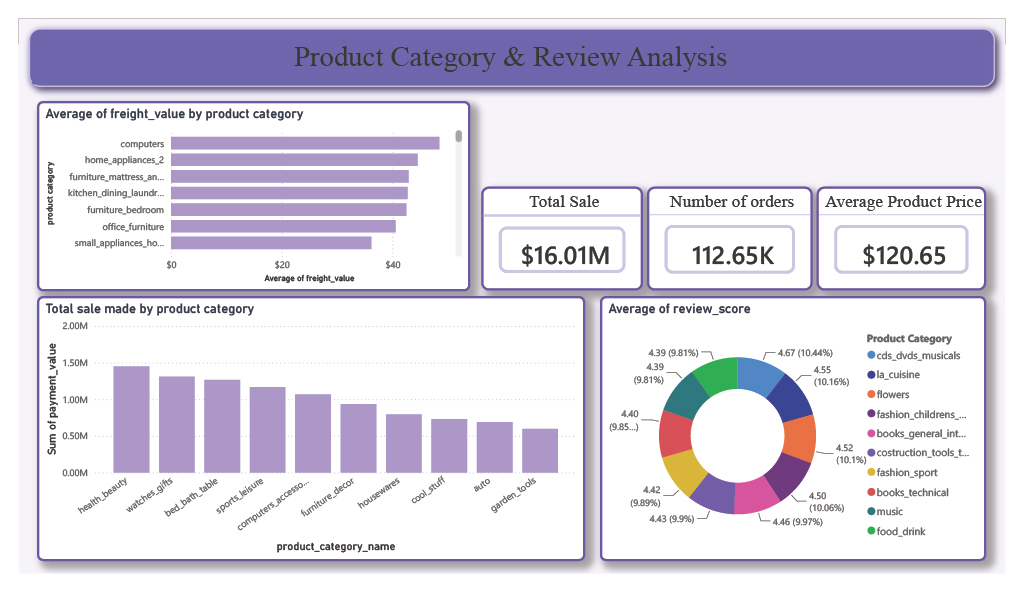

The dashboard page shown, as its layout file describes it:
{"tool":"powerbi","page":{"name":"Product Category & Review Analysis","canvas":[1280,720],"ordinal":2},"visuals":[{"type":"shape","box":[0,0,1280,720],"z":0},{"type":"shape","box":[0,0,1280,102.9],"z":1000},{"type":"clusteredBarChart","fields":{"Y":["Avg(cleaned_order_items_data.freight_value)"],"Category":["cleaned_order_items_data.product category"]},"box":[23.6,107.3,562.7,246.4],"z":1500},{"type":"textbox","box":[17.7,23.1,1240.8,62.3],"z":2000},{"type":"cardVisual","title":"Total Sale","fields":{"Data":["Sum(cleaned_order_payments_data.payment_value)"]},"box":[600.5,217.7,209.5,135.5],"z":3000},{"type":"cardVisual","title":"Number of orders","fields":{"Data":["CountNonNull(cleaned_order_items_data.product_id)"]},"box":[814.8,217.6,215.2,135.7],"z":4000},{"type":"cardVisual","title":"Average Product Price","fields":{"Data":["Avg(cleaned_order_items_data.price)"]},"box":[1034.7,217.6,220,135.7],"z":5000},{"type":"clusteredColumnChart","title":"Total sale made by product category","fields":{"Category":["cleaned_products_data.product_category_name"],"Y":["Sum(cleaned_order_payments_data.payment_value)"]},"box":[23.7,360,711.6,343.7],"z":6000},{"type":"donutChart","title":"Average of review_score","fields":{"Y":["Avg(cleaned_order_reviews_data.review_score)"],"Category":["cleaned_order_reviews_data.Product Category"]},"box":[754.1,360,500.6,344.1],"z":7000}]}

Visuals, with their boxes in screenshot pixels (x1, y1, x2, y2), scaled from the page's 1280x720 canvas onto the 1024x592 screenshot:
shape: BBox(0, 0, 1023, 591)
shape: BBox(0, 0, 1023, 85)
clusteredBarChart - Avg(cleaned_order_items_data.freight_value) x cleaned_order_items_data.product category: BBox(19, 88, 469, 291)
textbox: BBox(14, 19, 1007, 70)
"Total Sale" cardVisual: BBox(480, 179, 648, 290)
"Number of orders" cardVisual: BBox(652, 179, 824, 290)
"Average Product Price" cardVisual: BBox(828, 179, 1004, 290)
"Total sale made by product category" clusteredColumnChart: BBox(19, 296, 588, 579)
"Average of review_score" donutChart: BBox(603, 296, 1004, 579)
